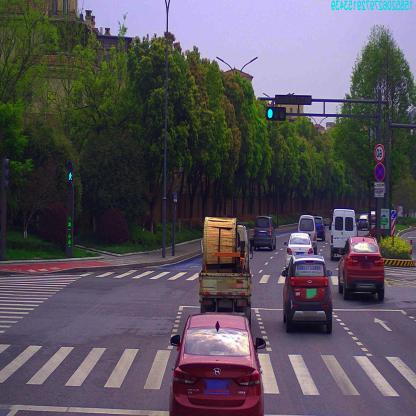traffic-light: (267, 106, 287, 121)
